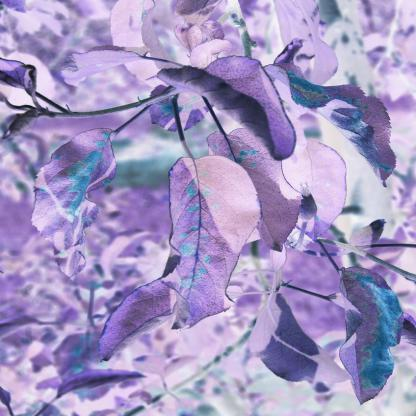Apple rust leaf: (276, 55, 410, 192), (157, 144, 250, 329), (200, 126, 318, 254), (37, 123, 124, 286), (339, 257, 398, 412)
